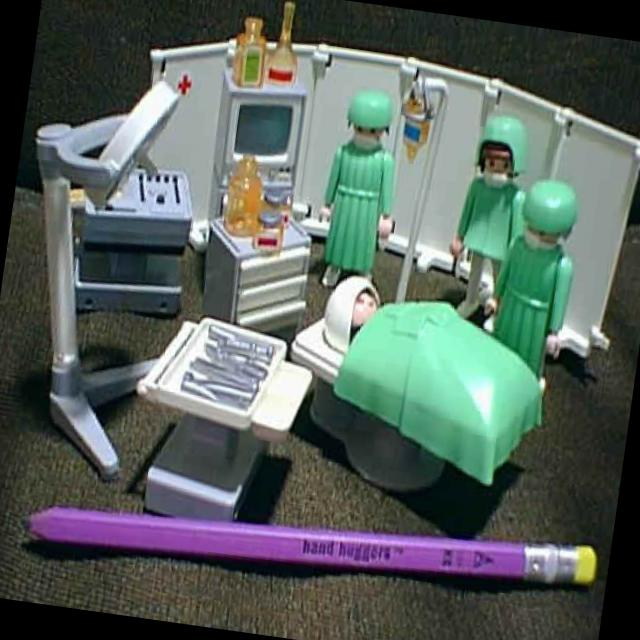articulated lamp: (35, 79, 177, 474)
bottle crop: (264, 0, 296, 83), (231, 14, 264, 87)
doll: (323, 274, 380, 348)
drawers: (202, 202, 305, 334)
furniture: (205, 65, 306, 215)
md toy: (487, 176, 576, 377), (450, 114, 527, 309), (318, 86, 394, 283)
pencil: (19, 505, 596, 582)
screen occluded: (232, 103, 292, 152)
set of instruments: (133, 313, 312, 514)
stretcher: (289, 303, 540, 489)
